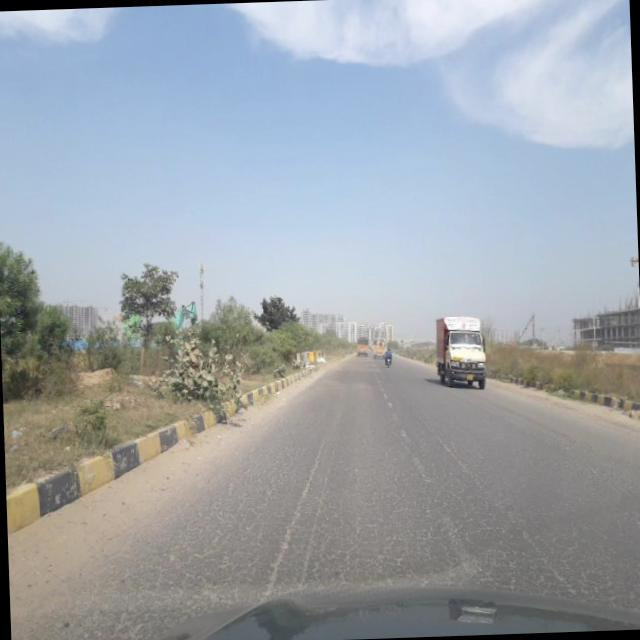crack: (148, 432, 640, 627)
pothole: (432, 428, 578, 600), (260, 432, 328, 590)
